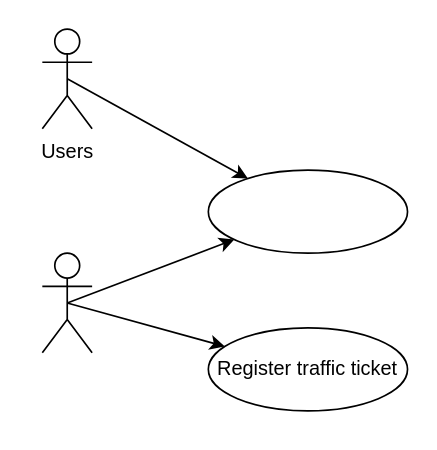
Image size: 437x450. Some labels were removed from this diagram. Here are the shapes that lost their labels. From the top down, the centre of each, then its label:
At point (307, 210): "Search vehicles".
At point (66, 302): "Traffic warden".
